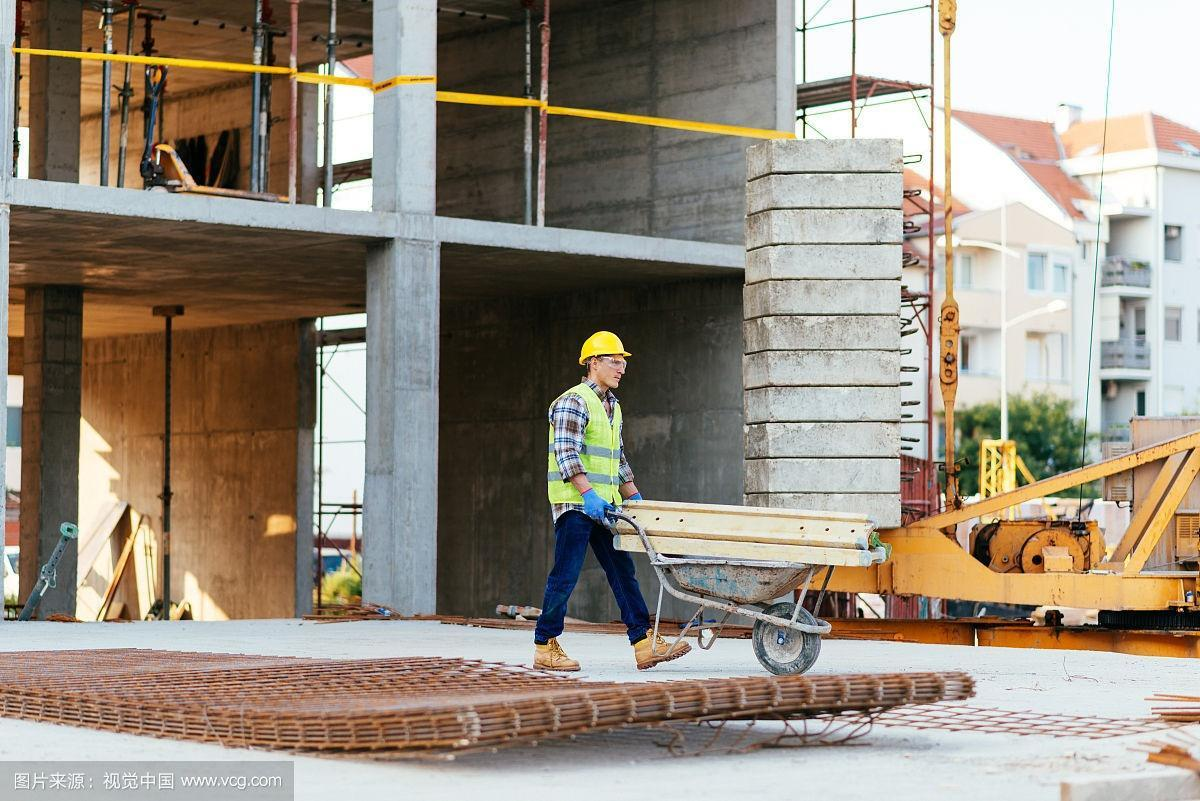helmet: (571, 325, 639, 374)
person: (528, 325, 695, 677)
vest: (543, 384, 639, 530)
